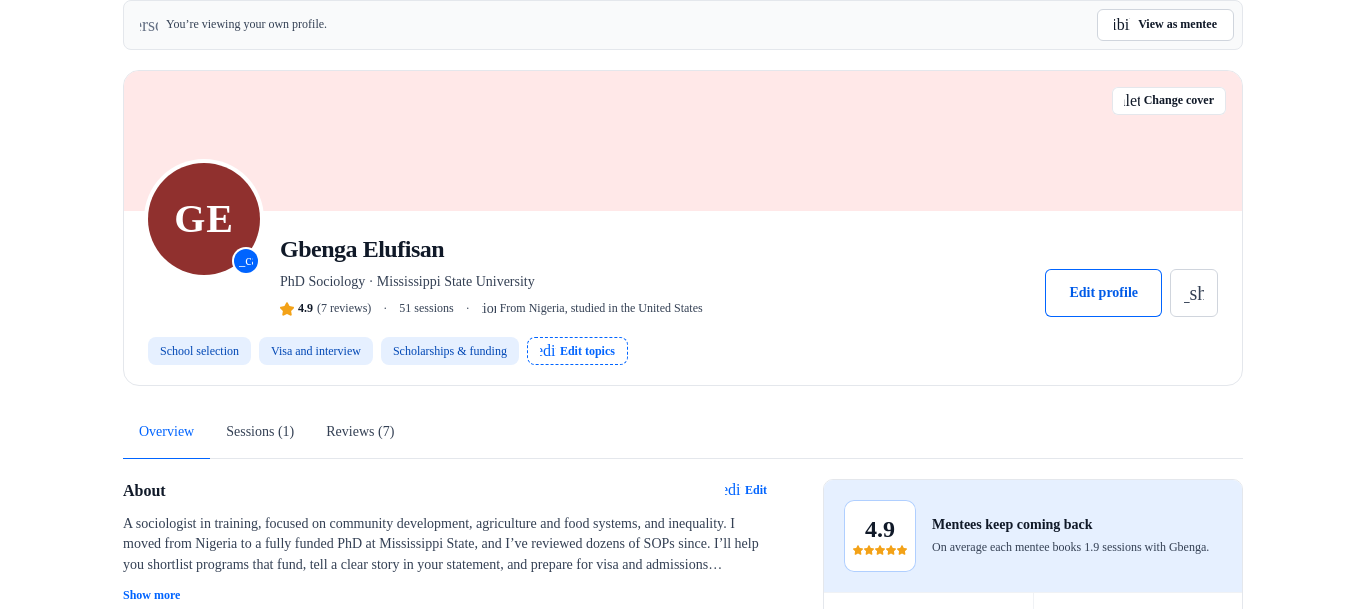
Test: MentorProfileScreen — the owner edits their profile › "Edit profile" opens the name and headline form in place of the intro, and Save sends it
The width and height of the screenshot is (1366, 609).
Click the button "Edit profile": (1104, 294) [1045,270,1162,318]
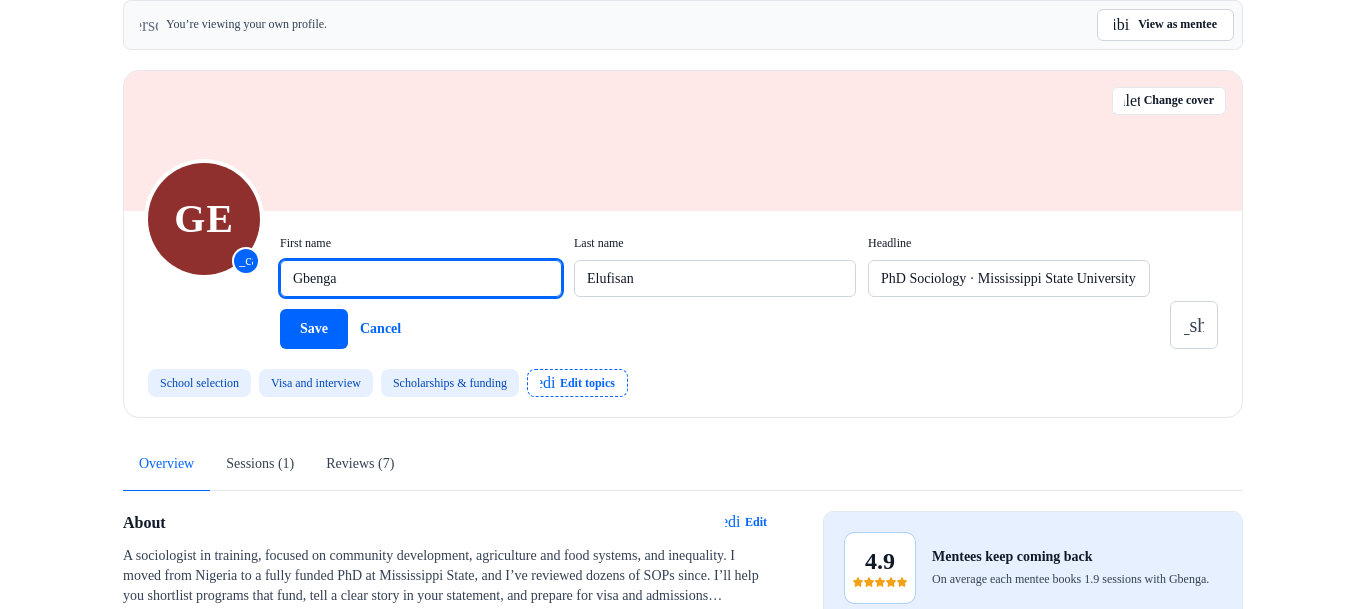
Expected: the field labelled "First name" holds "Gbenga", [280,260,562,297]
Expected: the field labelled "Last name" holds "Elufisan", [574,260,856,297]
Replace the text in the field labelled "Headline" with "MSc Sociology": (1009, 279) [868,260,1150,297]
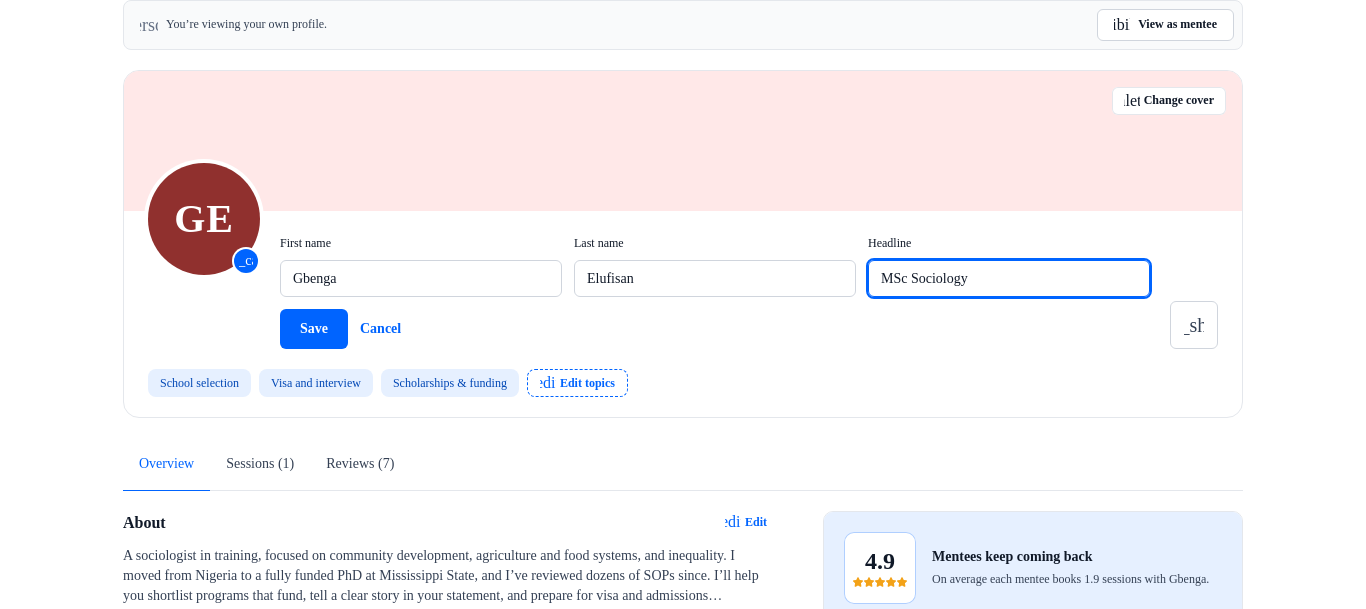
Click the button "Save": (314, 329) [280,309,348,349]
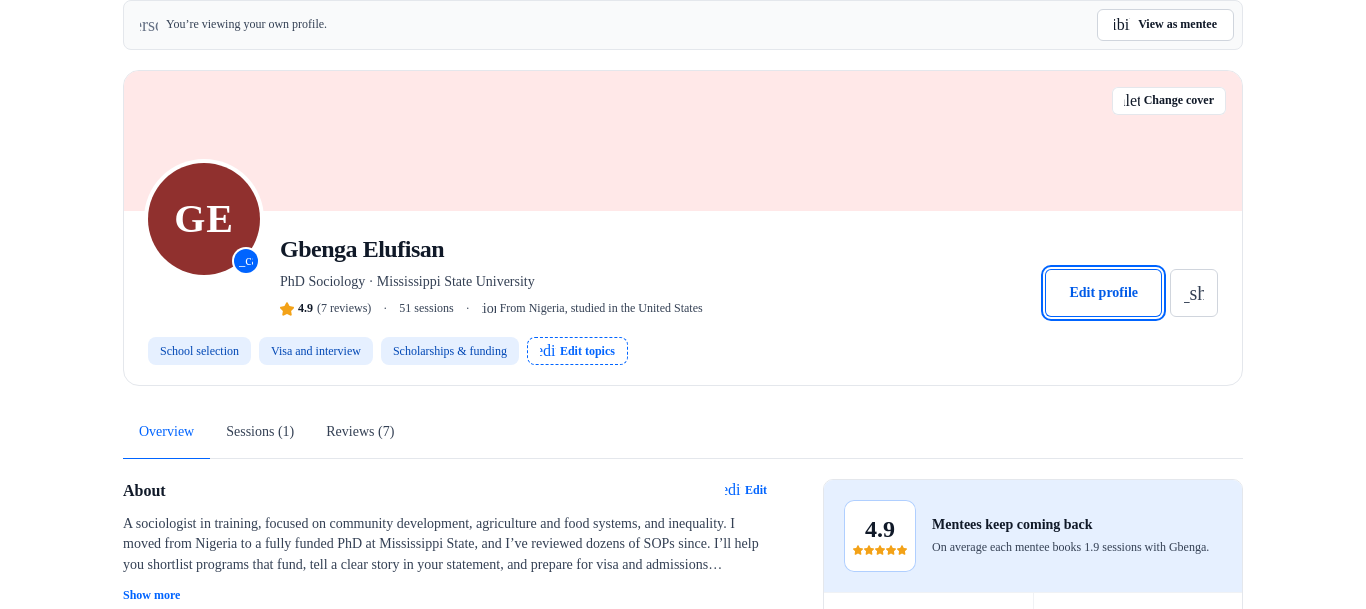
Expected: the field labelled "Edit your name and headline" is gone
